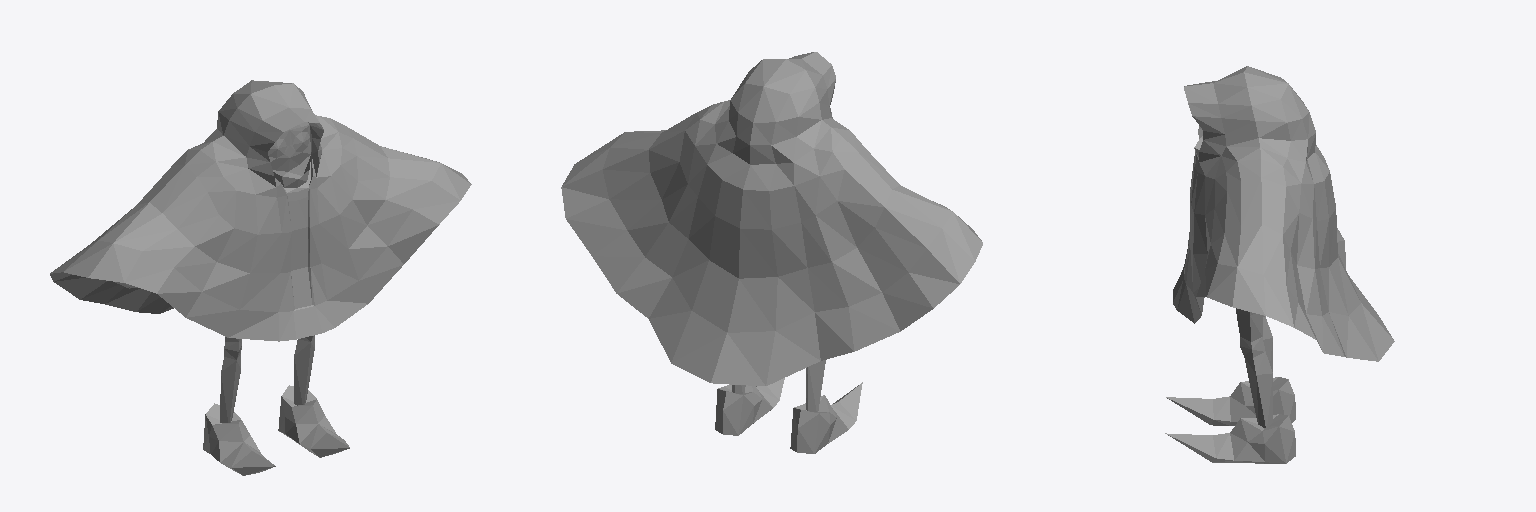
The model's file is Garo.obj.
3 views of the same model, side by side, from view 1: azimuth 30°, elevation 25°; view 2: azimuth 150°, elevation 25°; view 3: azimuth 270°, elevation 25° (orthographic).
Visible parts, largest first — view 1: polySurface17, polySurface2, polySurface8, polySurface18, nodeFBXASC[number redacted]; view 2: polySurface17, polySurface2, polySurface8, polySurface18; view 3: polySurface17, polySurface8, polySurface18, polySurface2.
Boxes of the visible parts, <box> form: polySurface17: <box>50,80,471,341</box>; polySurface2: <box>203,403,275,475</box>; polySurface8: <box>278,385,349,457</box>; polySurface18: <box>220,335,314,422</box>; nodeFBXASC[number redacted]: <box>268,122,311,178</box>; polySurface17: <box>561,52,982,385</box>; polySurface2: <box>790,382,862,453</box>; polySurface8: <box>715,378,784,435</box>; polySurface18: <box>732,360,825,411</box>; polySurface17: <box>1173,66,1394,361</box>; polySurface8: <box>1165,414,1295,463</box>; polySurface18: <box>1236,308,1272,427</box>; polySurface2: <box>1166,377,1295,425</box>.
Bounding box in the file's own units: 81.29 × 71.25 × 40.36.